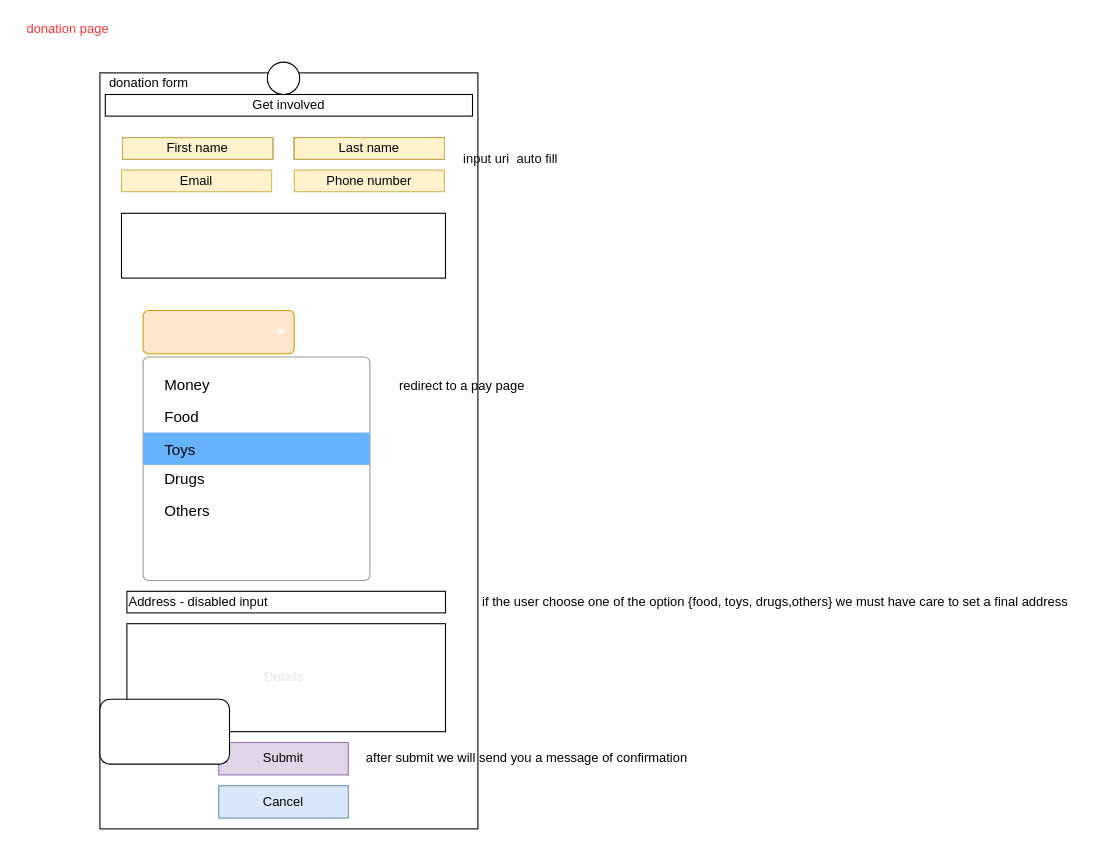
Some shapes in this 1095 by 848 pixel diagram are drawn without their labels. The shapes that lost their labels are listed below. From the top down, each one's centre as x and y in pixels, then its label:
At [283,77]: "logo".
At [283,245]: "What do you want to donate? Choose from list".
At [218,331]: "I want to donate".
